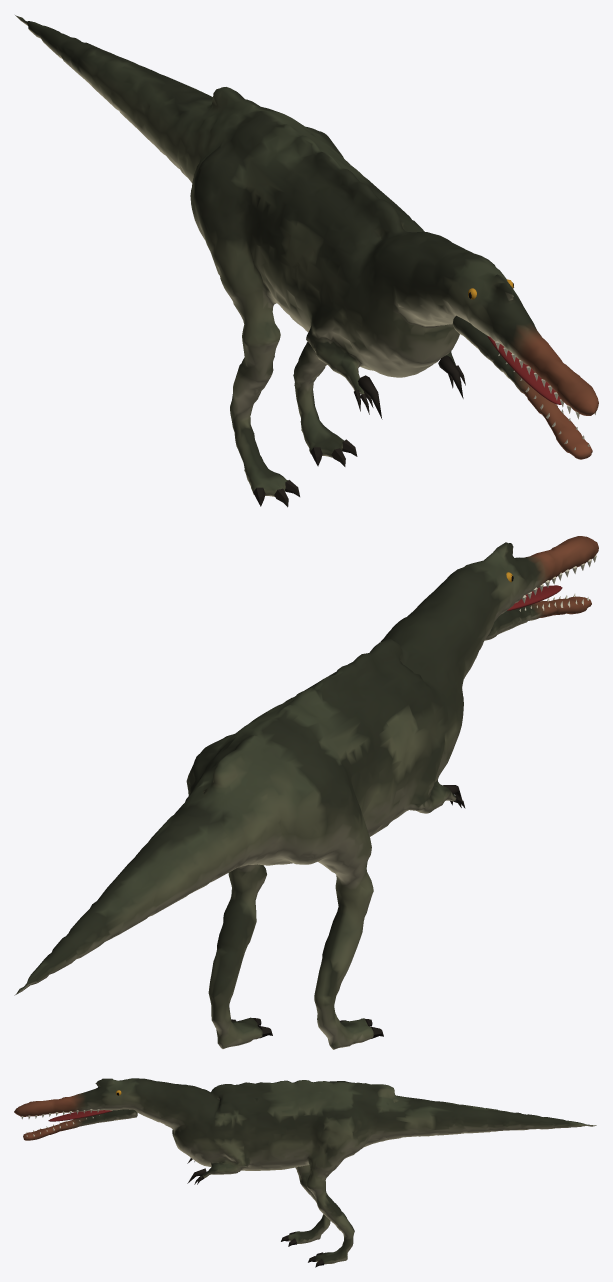
The model's file is Baryonyx.fbx.
3 renders of one model, top to bottom at view 1: azimuth 30°, elevation 25°; view 2: azimuth 150°, elevation 25°; view 3: azimuth 270°, elevation 25°, orthographic. The views are drawn at different scales.
Parts seen in each view (by area): view 1: Baryonyx; view 2: Baryonyx; view 3: Baryonyx.
Part boxes in pixels (box(x1,y1,x2,y2)): Baryonyx: box(15, 15, 598, 507); Baryonyx: box(14, 536, 598, 1049); Baryonyx: box(14, 1078, 596, 1267).
Size of the model in its own units: 0.3191 by 0.7053 by 2.15.
